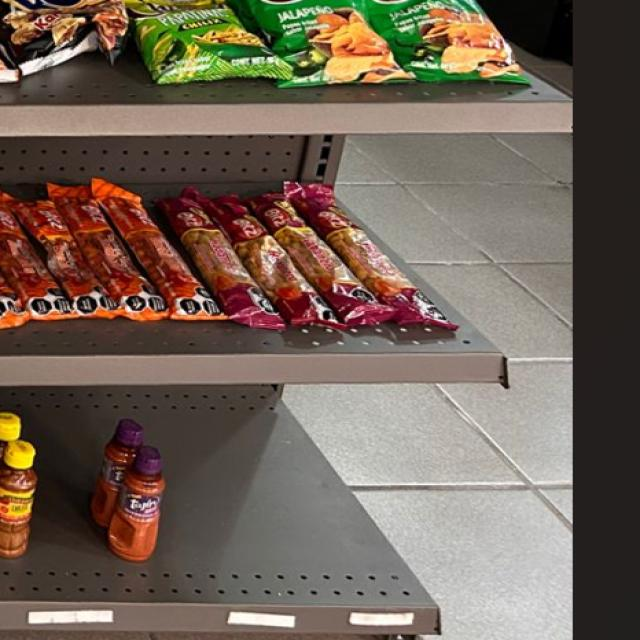bitzEnchilado95: (195, 193, 407, 330), (0, 184, 162, 316)
botaneraChilito: (0, 438, 37, 555)
chipsJalapeno: (261, 0, 380, 80), (385, 0, 504, 78)
chipsPapatinas: (136, 0, 256, 81)
popKarameladas: (0, 0, 126, 86)
tajinDulce: (110, 446, 167, 567)
